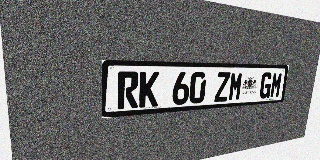0: (189, 72, 207, 104)
6: (172, 72, 191, 105)
G: (259, 72, 273, 99)
K: (139, 71, 159, 108)
M: (228, 72, 244, 101), (269, 72, 283, 98)
R: (117, 71, 139, 109)
Z: (214, 72, 231, 102)
